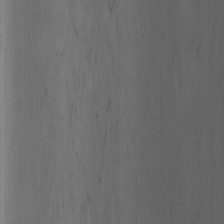silk_spot: (54, 19, 112, 202)
